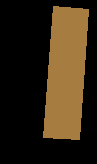parkingspot: (43, 6, 88, 139)
